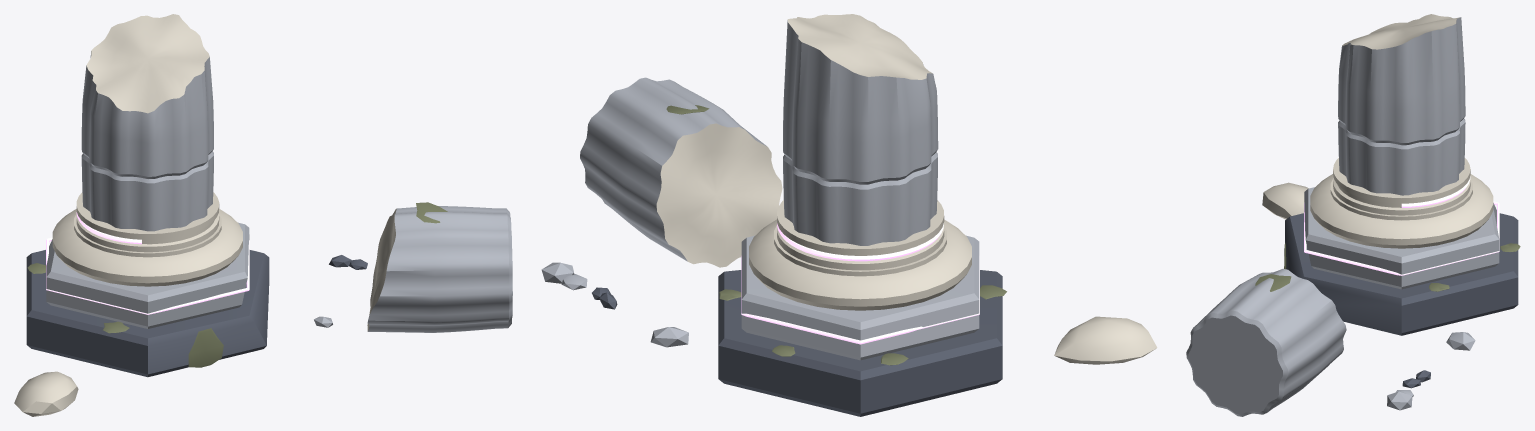
Rendered from deco_column_broken.fbx.
3 renders of one model, left to right at view 1: azimuth 30°, elevation 25°; view 2: azimuth 150°, elevation 25°; view 3: azimuth 270°, elevation 25°, orthographic. The views are drawn at different scales.
Visible parts, largest first — view 1: Column_Broken_Base, Column_Broken_Shaft, Column_Broken_Fragment; view 2: Column_Broken_Base, Column_Broken_Shaft, Column_Broken_Fragment; view 3: Column_Broken_Base, Column_Broken_Shaft, Column_Broken_Fragment.
Part boxes in pixels (left/top/right/bottom): Column_Broken_Base: left=26, top=209, right=269, bottom=377; Column_Broken_Shaft: left=76, top=14, right=219, bottom=252; Column_Broken_Fragment: left=14, top=202, right=512, bottom=416; Column_Broken_Base: left=718, top=219, right=1006, bottom=416; Column_Broken_Shaft: left=777, top=14, right=944, bottom=270; Column_Broken_Fragment: left=541, top=77, right=1157, bottom=364; Column_Broken_Base: left=1284, top=174, right=1520, bottom=335; Column_Broken_Shaft: left=1333, top=14, right=1470, bottom=215; Column_Broken_Fragment: left=1186, top=182, right=1475, bottom=416.
Bounding box in the file's own units: 395 × 226 × 243.
